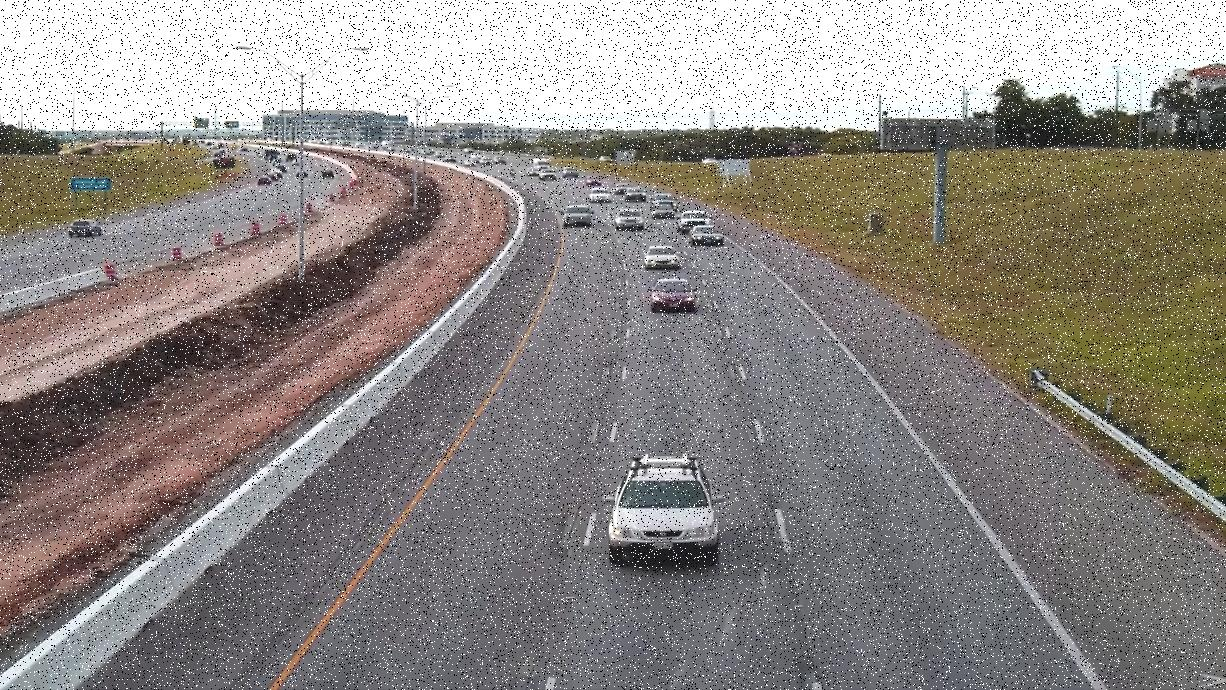car: (602, 453, 727, 567), (650, 276, 699, 311), (641, 245, 678, 268), (613, 210, 648, 233), (559, 207, 591, 228), (688, 228, 724, 246), (67, 221, 101, 238), (649, 196, 675, 218), (680, 213, 711, 228), (591, 189, 614, 203), (533, 168, 558, 180)
